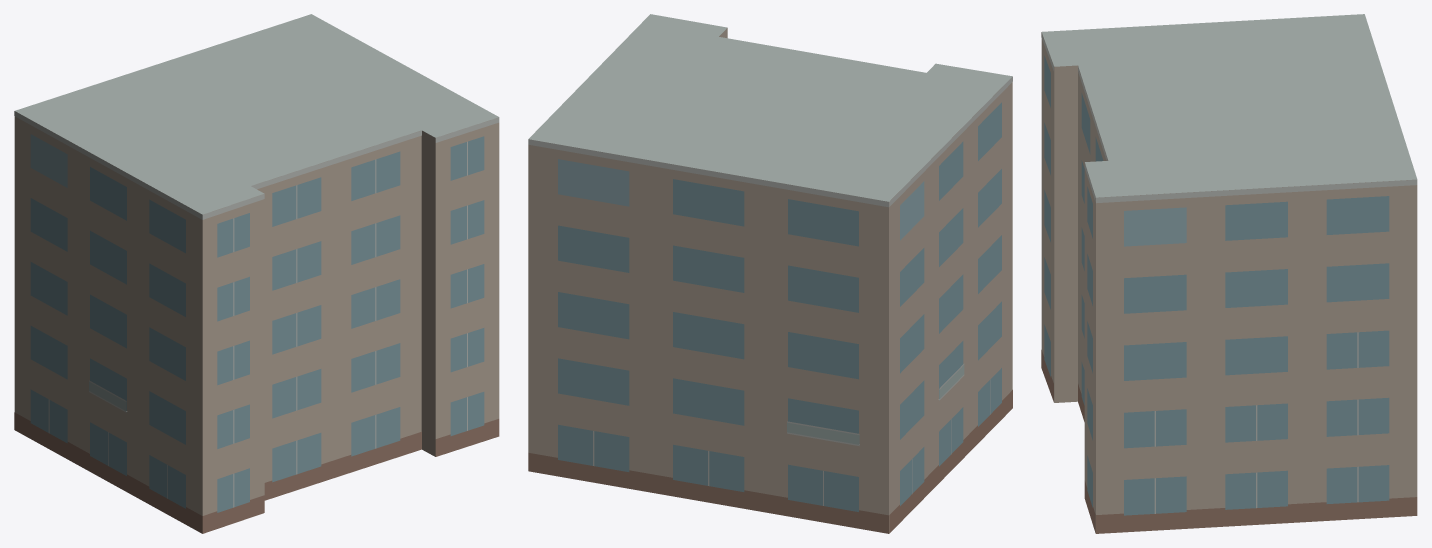
File: survey-upis-32630942.glb
3 views of the same model, side by side, from view 1: azimuth 30°, elevation 25°; view 2: azimuth 150°, elevation 25°; view 3: azimuth 270°, elevation 25° (orthographic). The views are drawn at different scales.
Parts seen in each view (by area): view 1: survey-upis-32630942.tmp; view 2: survey-upis-32630942.tmp; view 3: survey-upis-32630942.tmp.
Boxes of the visible parts, x1,y1,x2,y2 form: survey-upis-32630942.tmp: [14, 14, 499, 533]; survey-upis-32630942.tmp: [528, 14, 1012, 533]; survey-upis-32630942.tmp: [1041, 14, 1417, 533].
Size of the model in its own units: 17.22 by 14.7 by 14.9.
